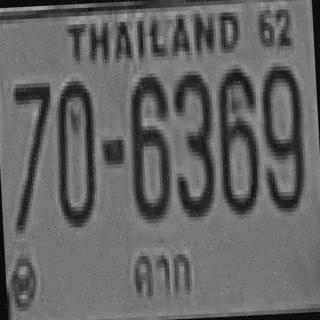N00: (52, 76, 96, 224)
N03: (169, 68, 215, 216)
N06: (125, 72, 172, 220), (215, 64, 260, 212)
N07: (8, 79, 55, 230)
N09: (259, 62, 306, 209)
P69: (127, 236, 195, 300)
